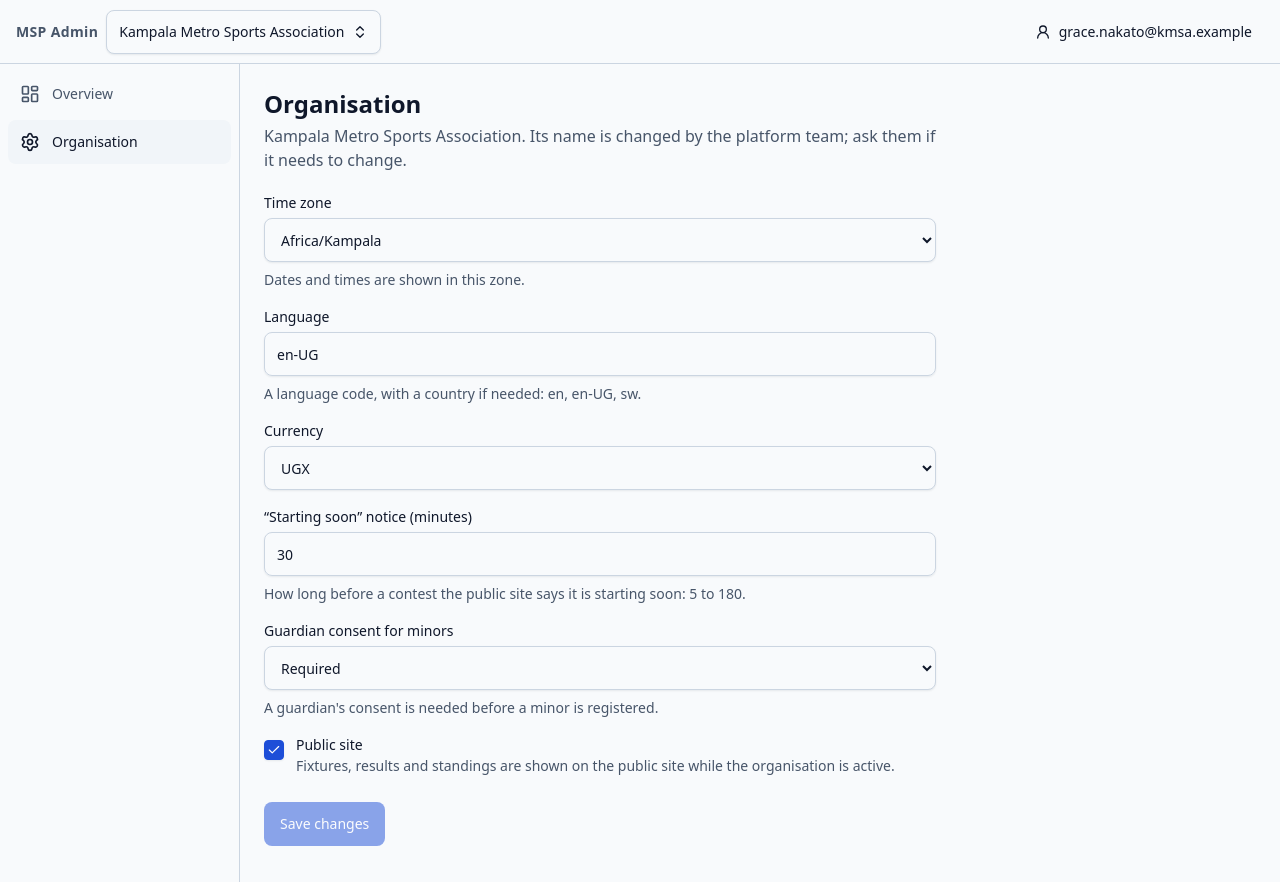
Test: organisation settings › says the record changed since it was opened, and reloads it
Replace the text in the number field labelled "“Starting soon” notice (minutes)" with "60": (600, 554) [264,532,936,576]
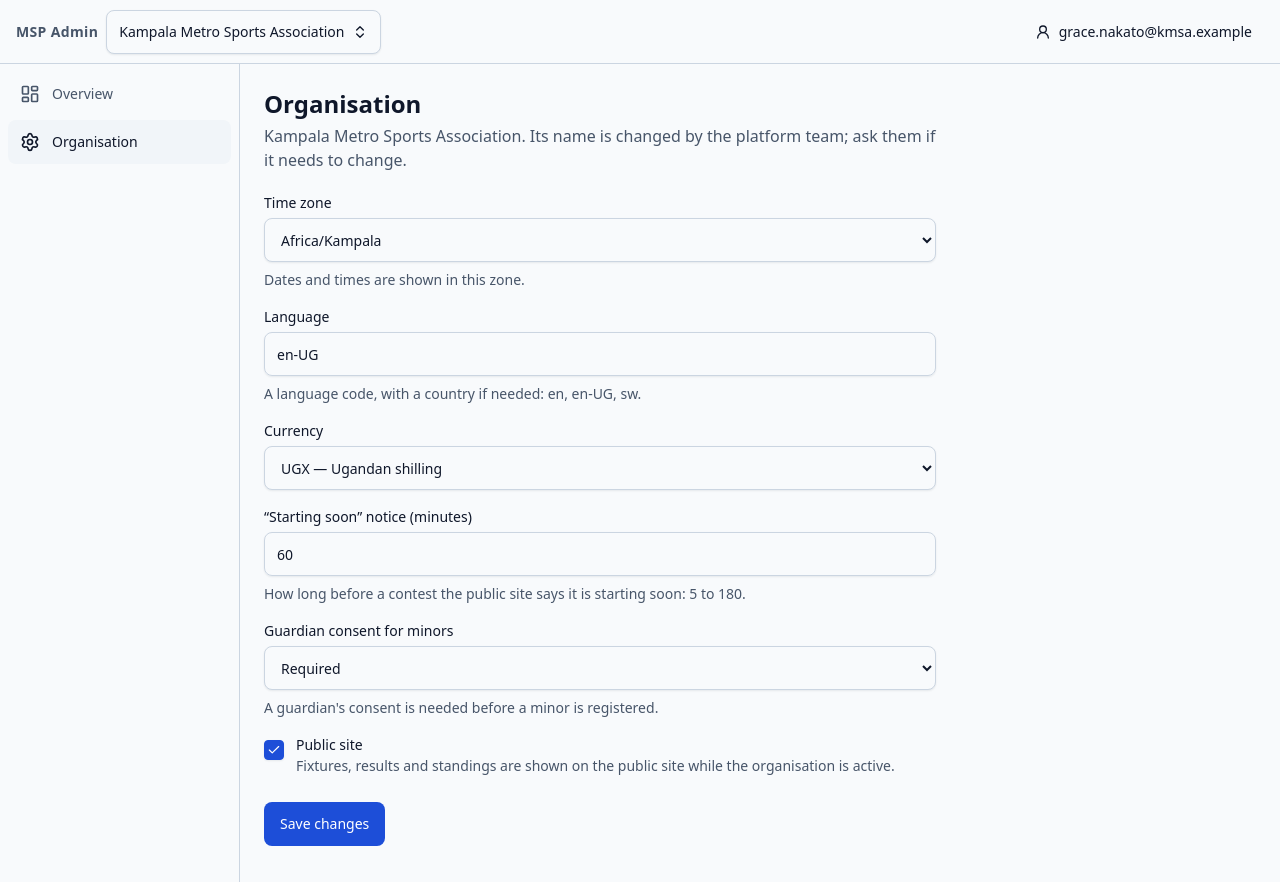
Click the button "Save changes": (325, 824) [264,802,385,846]
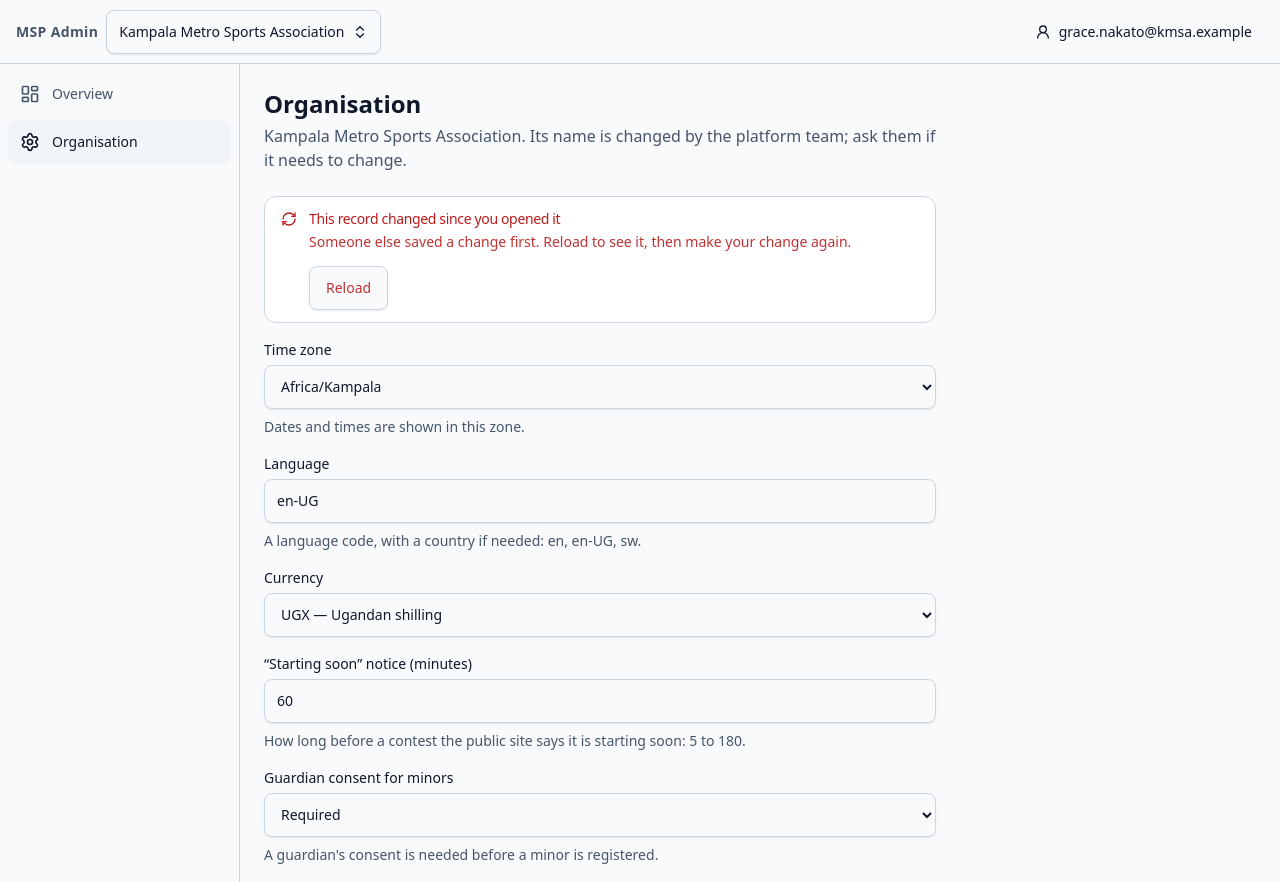
Click the button "Reload": (349, 288) [309,266,388,310]
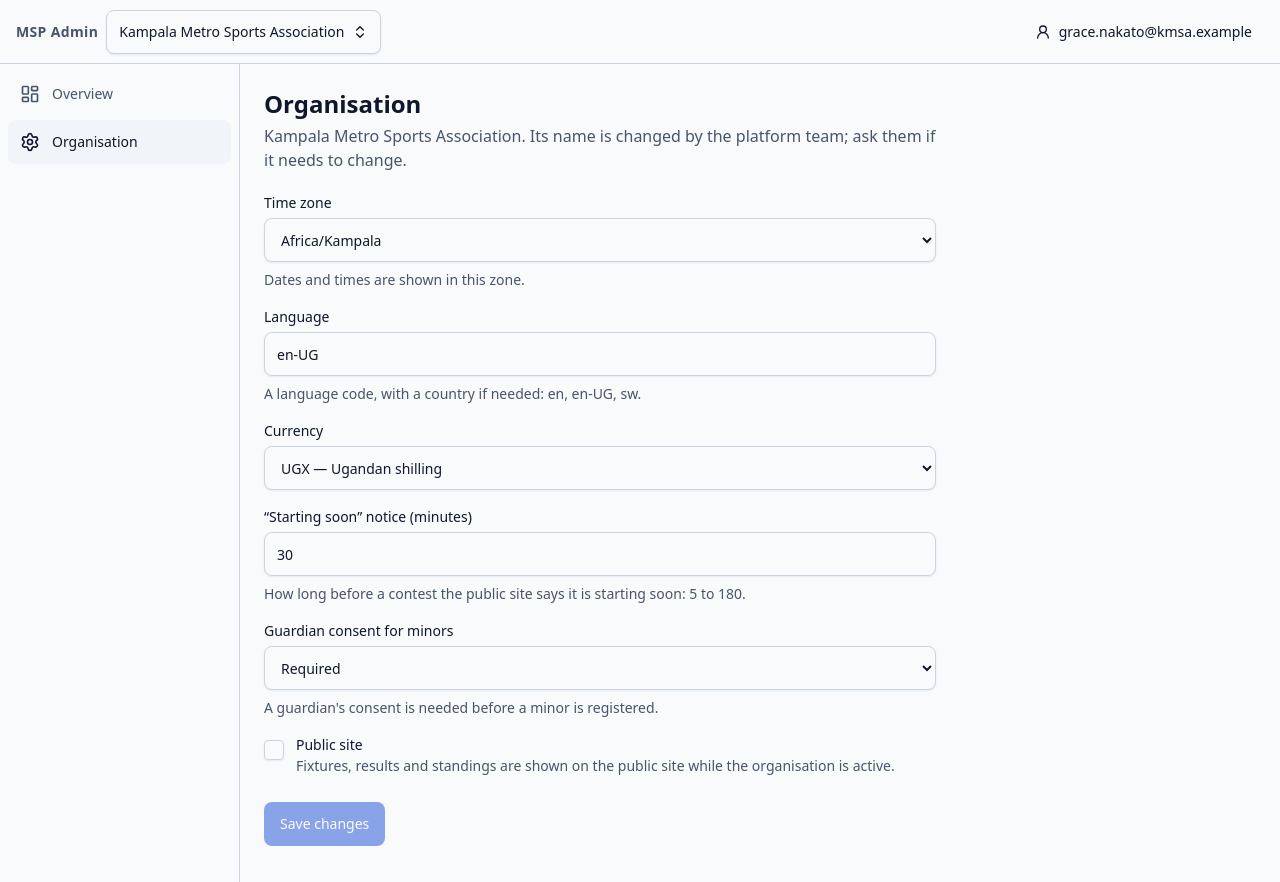
expect the text "This record changed since you opened it" is gone: met
expect the number field labelled "“Starting soon” notice (minutes)" holds "30": met, box [264,532,936,576]
